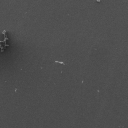corrosion: (1, 33, 8, 51)
